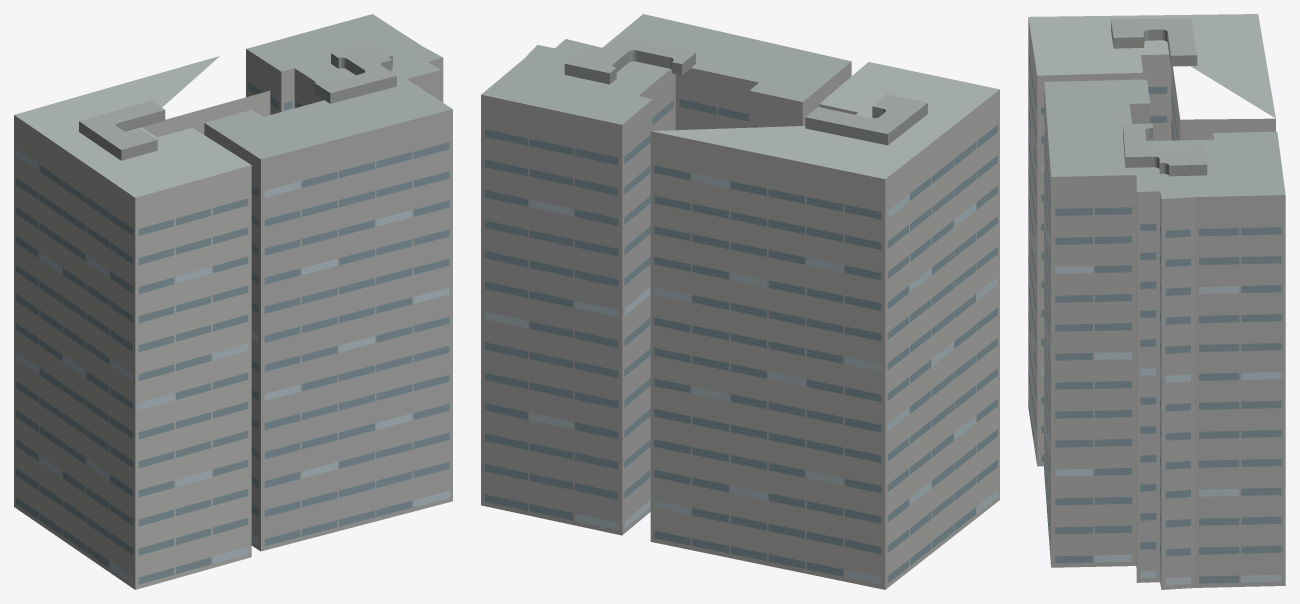
Rendered from apt-a10023343.glb.
The picture shows the model from 3 angles, left to right: view 1: azimuth 30°, elevation 25°; view 2: azimuth 150°, elevation 25°; view 3: azimuth 270°, elevation 25°; orthographic projection. The views are drawn at different scales.
Parts seen in each view (by area): view 1: apt-a10023343; view 2: apt-a10023343; view 3: apt-a10023343.
Boxes of the visible parts, x1,y1,x2,y2 form: apt-a10023343: (14,14,452,589); apt-a10023343: (481,14,999,589); apt-a10023343: (1028,14,1285,589).
Bounding box in the file's own units: 89.01 × 90 × 52.26.
